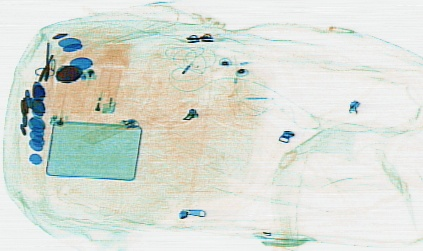lighter: (94, 64, 121, 117), (47, 79, 67, 126)
